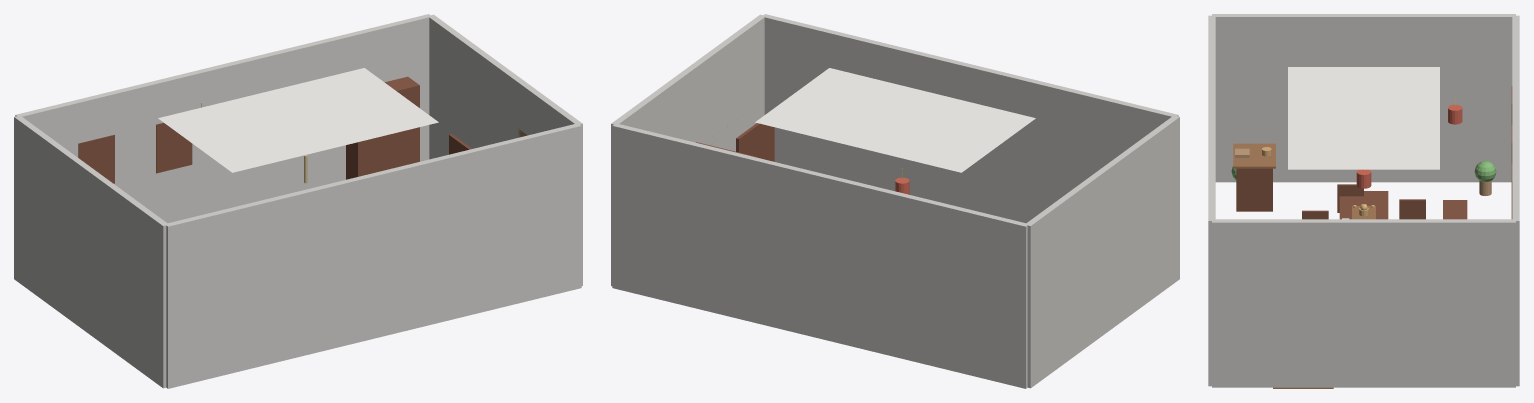
3 renders of one model, left to right at view 1: azimuth 30°, elevation 25°; view 2: azimuth 150°, elevation 25°; view 3: azimuth 270°, elevation 25°, orthographic.
Visible parts, largest first — view 1: Wall_South, Wall_North, Wall_West, Ceiling, Wall_East, BoguFrame, PaintFrame_1, PaintFrame_0; view 2: Wall_North, Wall_South, Wall_West, Ceiling, Wall_East, Screen_Frame; view 3: Wall_East, Wall_West, Ceiling, Wall_South, Wall_North, WaterCabinet, TeaTable_Top, WaterTop, Chair1_Back, BoguFrame, Plant_0, Chair3_Back (+2 smaller).
Part boxes in pixels (x1,y1,x2,y2): Wall_South: (165, 123, 581, 388); Wall_North: (15, 14, 431, 223); Wall_West: (14, 116, 168, 388); Ceiling: (158, 68, 438, 172); Wall_East: (429, 14, 582, 285); BoguFrame: (346, 76, 419, 179); PaintFrame_1: (156, 122, 192, 173); PaintFrame_0: (78, 135, 114, 183); Wall_North: (612, 123, 1028, 388); Wall_South: (762, 14, 1178, 223); Wall_West: (1025, 116, 1179, 388); Ceiling: (755, 68, 1035, 172); Wall_East: (611, 14, 764, 285); Screen_Frame: (736, 123, 774, 161); Wall_East: (1212, 219, 1515, 387); Wall_West: (1212, 14, 1515, 182); Ceiling: (1288, 67, 1439, 169); Wall_South: (1208, 15, 1215, 386); Wall_North: (1512, 15, 1519, 386); WaterCabinet: (1236, 168, 1272, 211); TeaTable_Top: (1339, 191, 1388, 219); WaterTop: (1233, 143, 1275, 168); Chair1_Back: (1399, 199, 1425, 219); BoguFrame: (1443, 200, 1467, 219); Plant_0: (1474, 160, 1496, 181); Chair3_Back: (1337, 184, 1363, 212).
Bounding box in the file's own units: 8.12 × 3.05 × 5.12.
